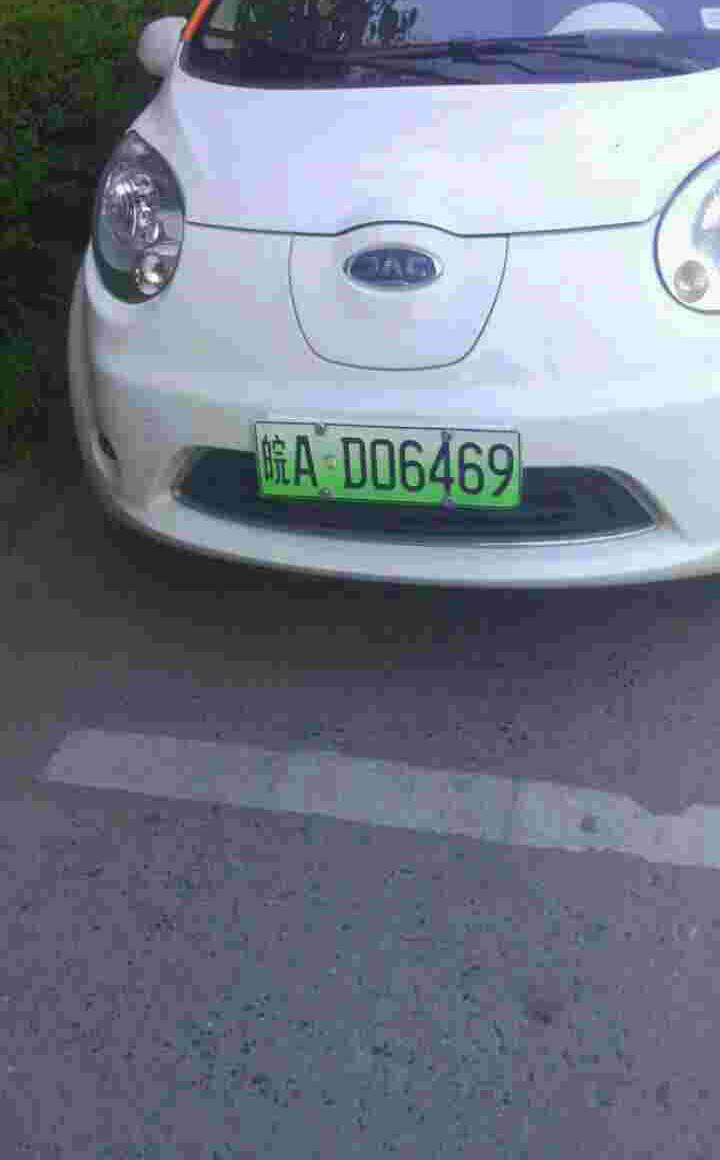car: (250, 413, 535, 520)
